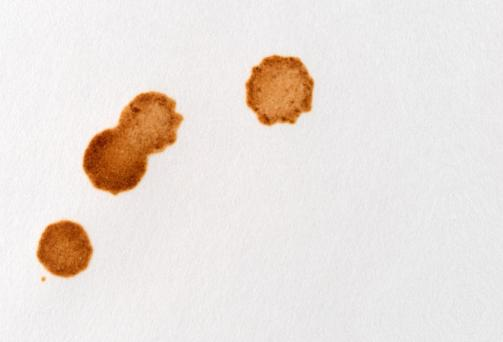stain: (80, 86, 189, 201), (243, 51, 317, 127), (32, 217, 97, 283)
